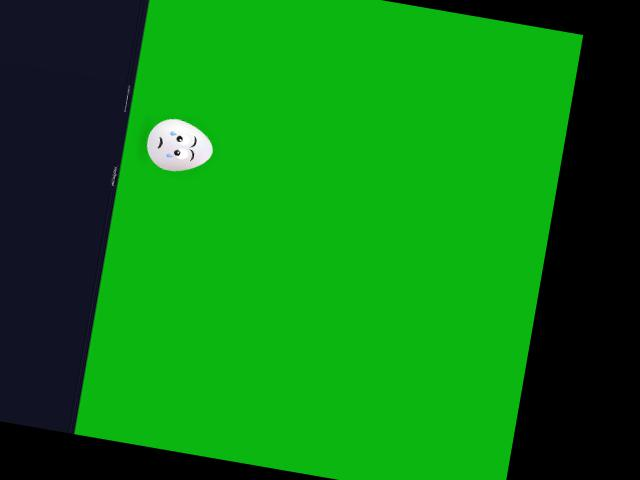egg: (143, 114, 216, 177)
